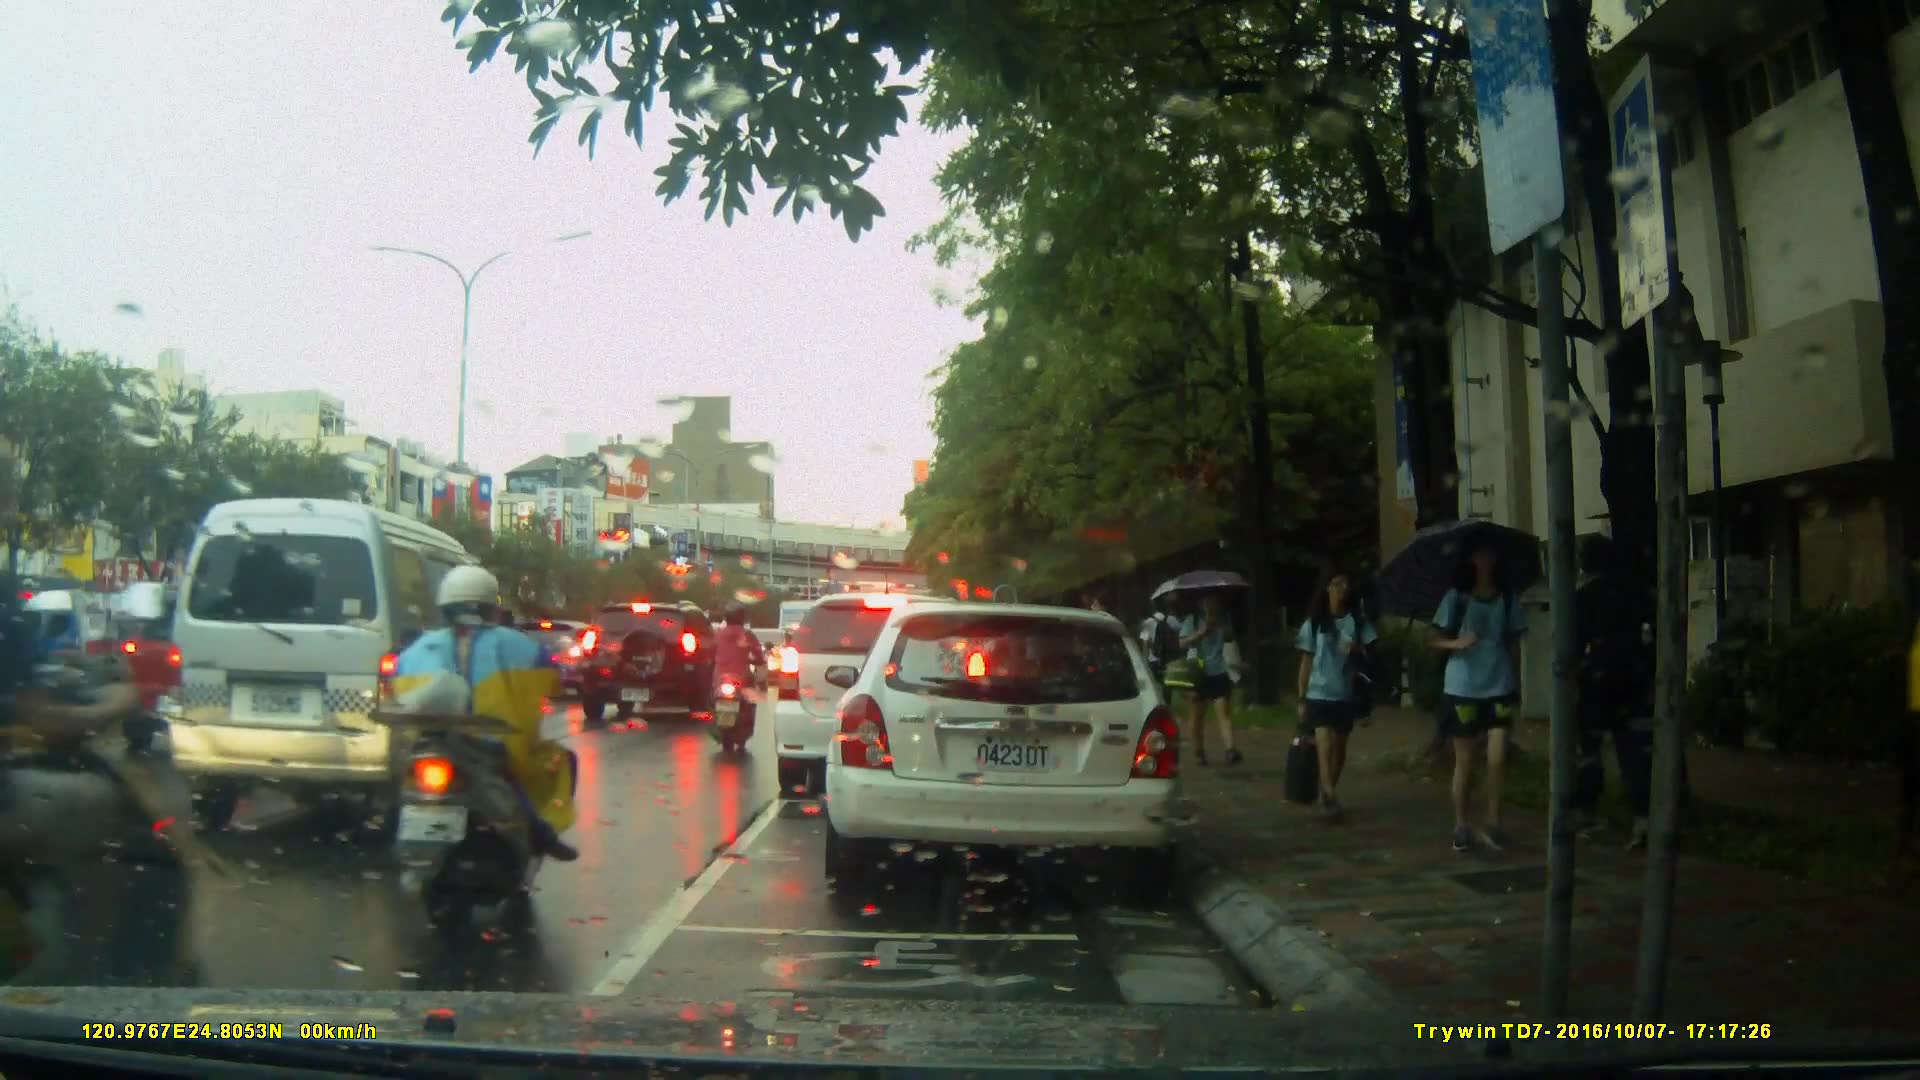pedestrian: (1404, 534, 1541, 863), (1558, 525, 1668, 864), (1282, 559, 1377, 832), (1174, 580, 1243, 777)
rider: (1, 437, 223, 1077), (380, 559, 580, 946), (702, 600, 767, 754)
vehicle: (159, 495, 503, 853), (815, 593, 1204, 909), (770, 590, 994, 802), (576, 603, 737, 726)
